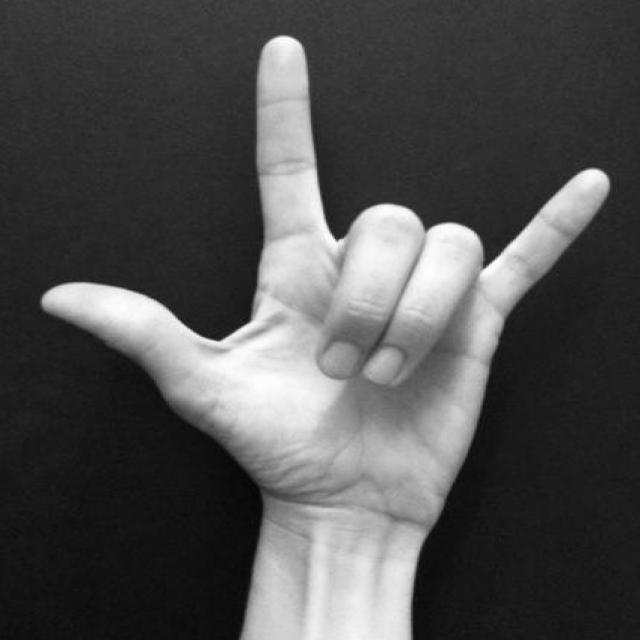i love you: (34, 33, 617, 545)
